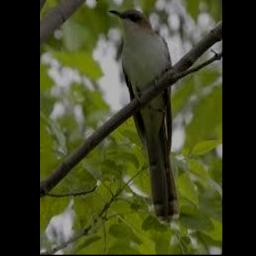Cuckoo: (109, 8, 180, 222)
